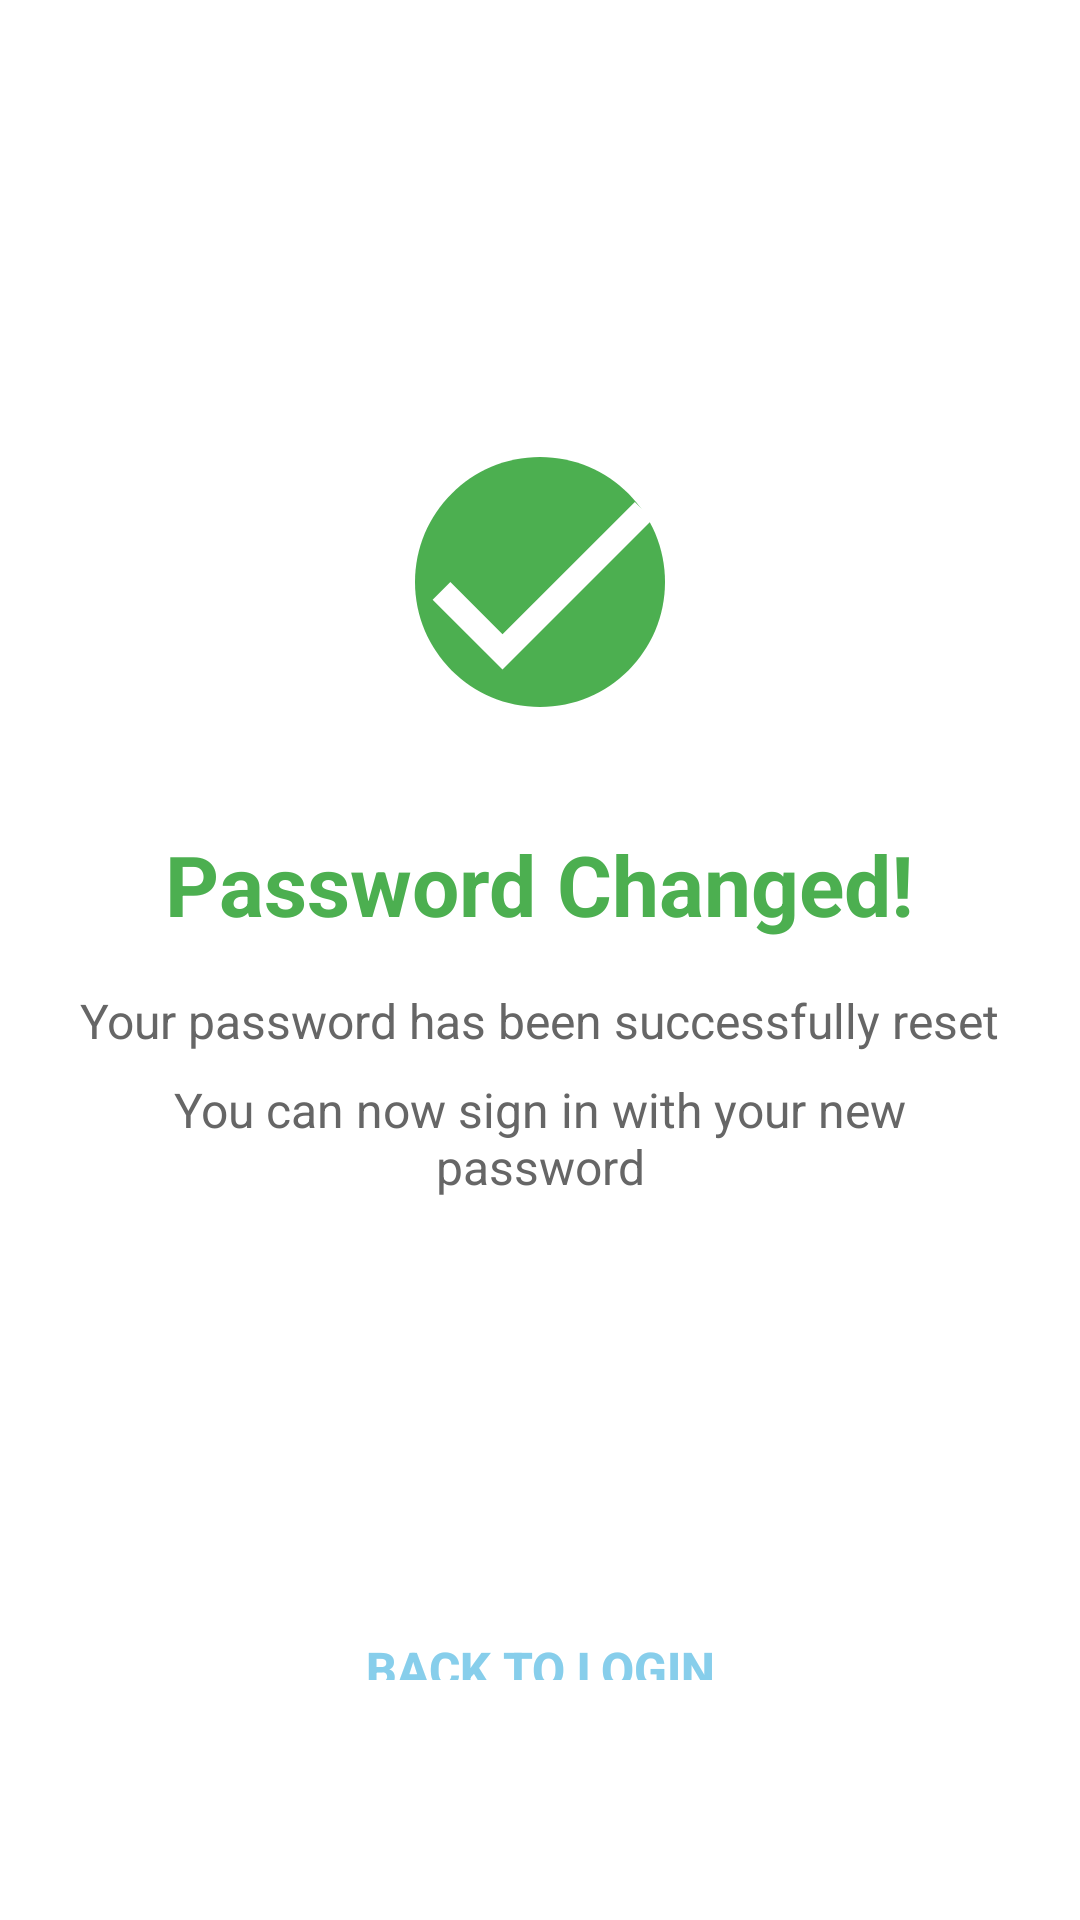

Where icons sit on this 1080px×1920px app screen, as (left=x1, top=y1, right=x2, bottom=y2):
Success: (left=415, top=457, right=665, bottom=707)
